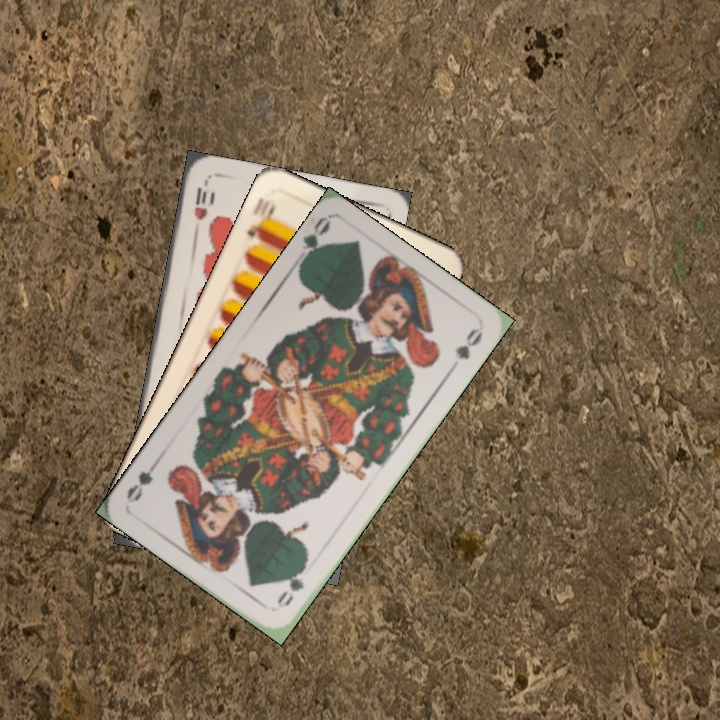E10: (242, 192, 279, 243)
GO: (294, 213, 333, 271), (273, 559, 310, 611)
H10: (189, 183, 210, 223)
